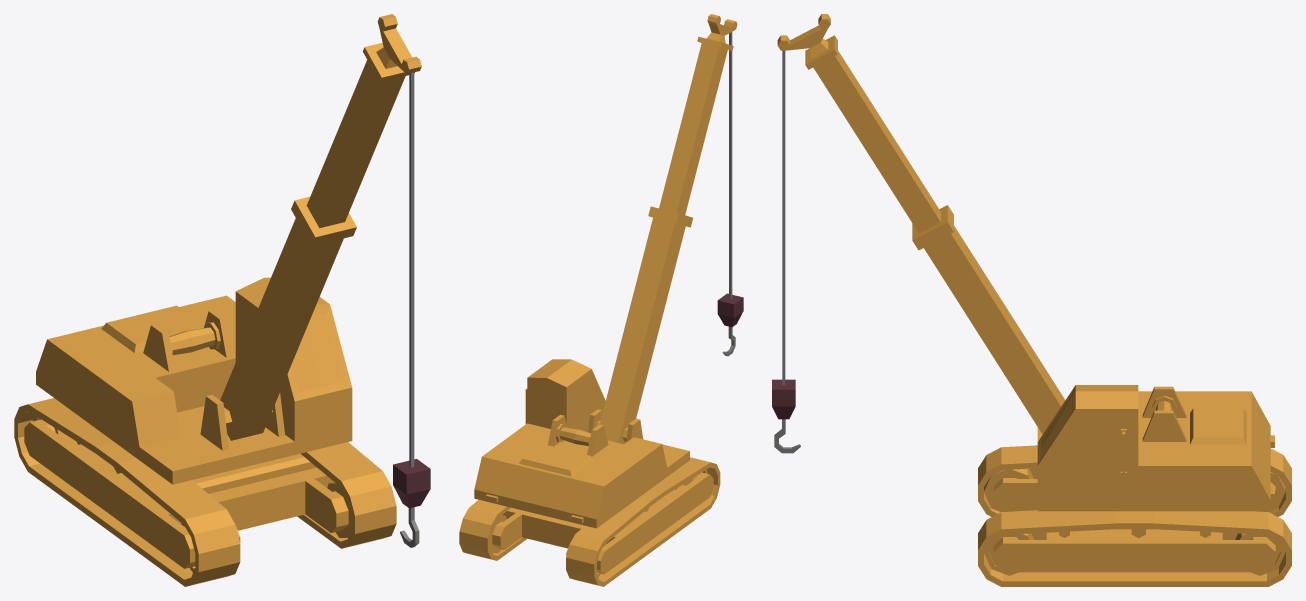
File: crane-crawler.glb
3 renders of one model, left to right at view 1: azimuth 30°, elevation 25°; view 2: azimuth 150°, elevation 25°; view 3: azimuth 270°, elevation 25°, orthographic. The views are drawn at different scales.
Parts seen in each view (by area): view 1: crane-crawler-base, crane-crawler-arm, crane-crawler-belt, crane-crawler-chassis, crane-crawler-hook, crane-crawler-wheel_TF; view 2: crane-crawler-base, crane-crawler-arm, crane-crawler-belt, crane-crawler-chassis, crane-crawler-hook; view 3: crane-crawler-base, crane-crawler-arm, crane-crawler-belt, crane-crawler-chassis, crane-crawler-hook, crane-crawler-wheel_F, crane-crawler-wheel_B.
Boxes of the visible parts, x1,y1,x2,y2 form: crane-crawler-base: (36,277,352,484); crane-crawler-arm: (220,14,421,440); crane-crawler-belt: (14,398,396,586); crane-crawler-chassis: (24,419,348,568); crane-crawler-hook: (393,72,430,547); crane-crawler-wheel_TF: (196,457,316,493); crane-crawler-base: (474,359,689,528); crane-crawler-arm: (595,14,737,444); crane-crawler-belt: (459,457,720,586); crane-crawler-chassis: (492,472,713,574); crane-crawler-hook: (717,32,743,356); crane-crawler-base: (1037,385,1274,511); crane-crawler-arm: (777,14,1065,434); crane-crawler-belt: (978,445,1291,586); crane-crawler-chassis: (993,468,1275,572); crane-crawler-hook: (772,50,800,453); crane-crawler-wheel_F: (984,468,1033,575); crane-crawler-wheel_B: (1235,472,1285,575).
Size of the model in its own units: 3.1 by 9.29 by 8.27.
